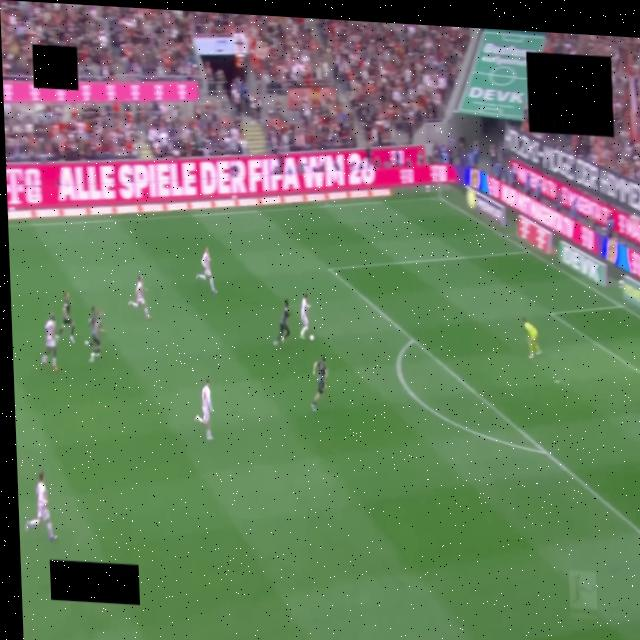ball: (310, 335, 314, 341)
player: (25, 472, 57, 541), (195, 379, 213, 441), (272, 298, 292, 347), (56, 292, 75, 343), (129, 275, 151, 319), (85, 307, 102, 363), (42, 314, 58, 371), (311, 355, 327, 411), (197, 248, 216, 293), (523, 318, 541, 358), (300, 295, 310, 338)
